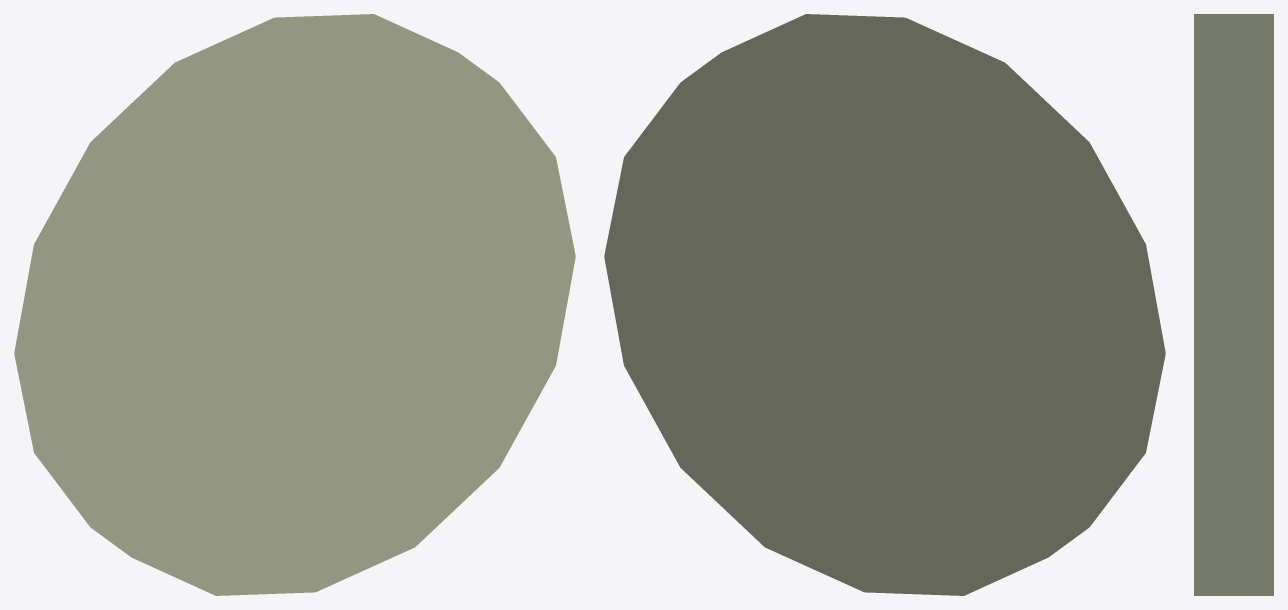
Rendered from round_tin_top.dae.
3 views of the same model, side by side, from view 1: azimuth 30°, elevation 25°; view 2: azimuth 150°, elevation 25°; view 3: azimuth 270°, elevation 25° (orthographic). The views are drawn at different scales.
Visible parts, largest first — view 1: Cylinder1-0; view 2: Cylinder1-0; view 3: Cylinder1-0.
Part boxes in pixels (box(x1,y1,x2,y2)): Cylinder1-0: box(14, 14, 575, 595); Cylinder1-0: box(604, 14, 1165, 595); Cylinder1-0: box(1194, 14, 1273, 595).
Size of the model in its own units: 0.084 by 0.084 by 0.0115.
